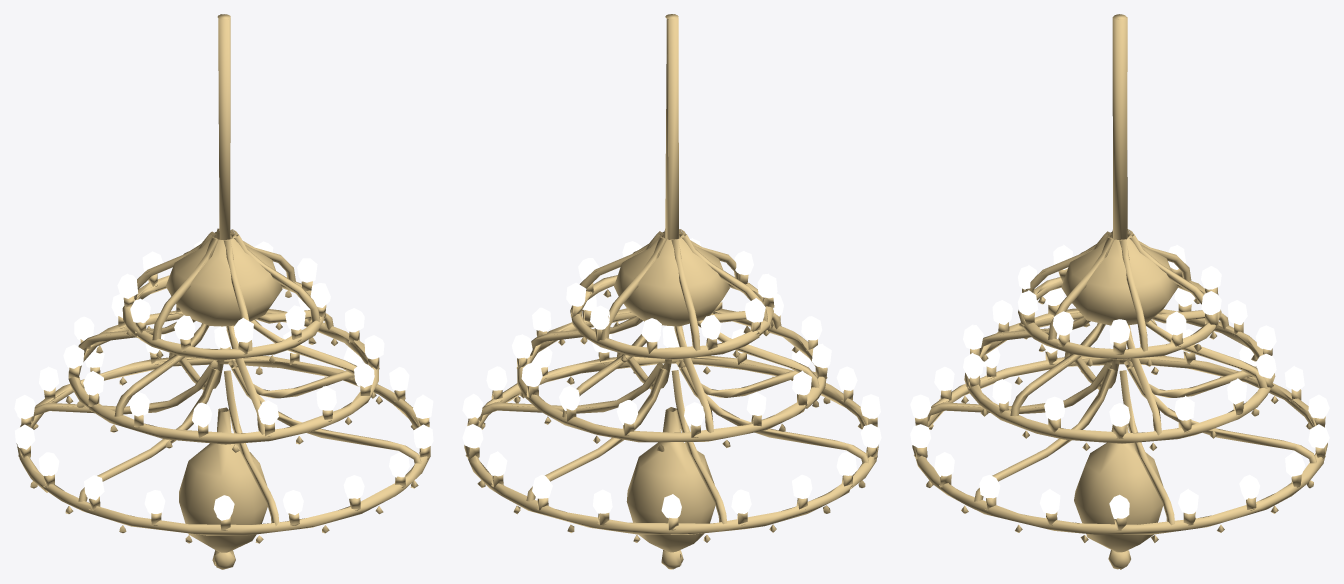
Rendered from chandelier_gilt.glb.
3 renders of one model, left to right at view 1: azimuth 30°, elevation 25°; view 2: azimuth 150°, elevation 25°; view 3: azimuth 270°, elevation 25°, orthographic.
Parts seen in each view (by area): view 1: Cylinder; view 2: Cylinder; view 3: Cylinder.
Boxes of the visible parts, x1,y1,x2,y2 form: Cylinder: [14, 14, 433, 569]; Cylinder: [462, 14, 881, 569]; Cylinder: [910, 14, 1329, 569].
Bounding box in the file's own units: 2.21 × 3.17 × 2.18.
